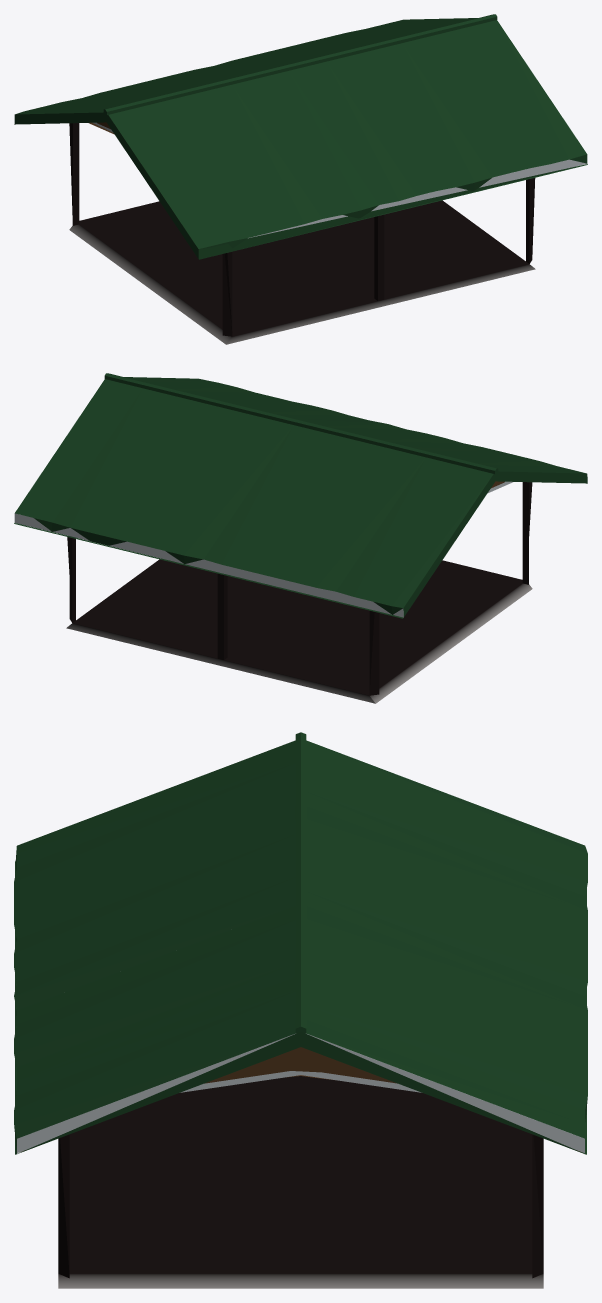
File: rest-shelter.lod1.glb
3 views of the same model, one above another, from view 1: azimuth 30°, elevation 25°; view 2: azimuth 150°, elevation 25°; view 3: azimuth 270°, elevation 25° (orthographic). The views are drawn at different scales.
Visible parts, largest first — view 1: Material2; view 2: Material2; view 3: Material2.
Part boxes in pixels (x1,y1,x2,y2): Material2: [14, 14, 587, 344]; Material2: [14, 373, 587, 703]; Material2: [14, 732, 587, 1288].
Bounding box in the file's own units: 10.35 × 4.77 × 8.52.
